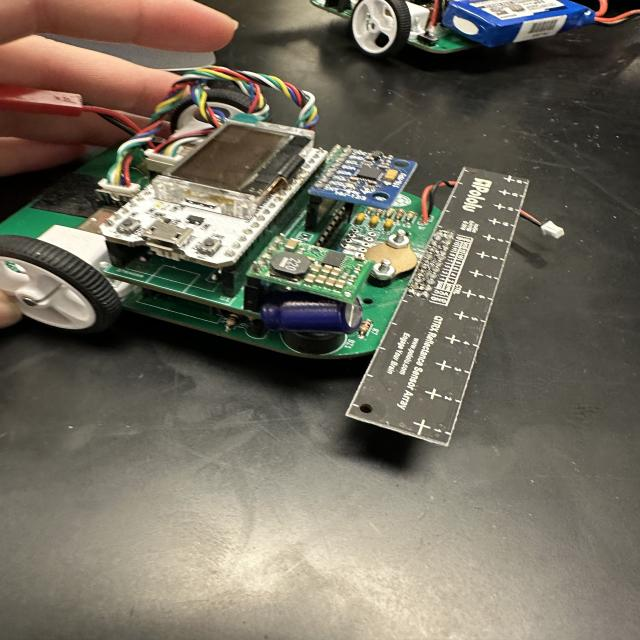robot: (0, 86, 535, 449), (308, 0, 638, 59)
